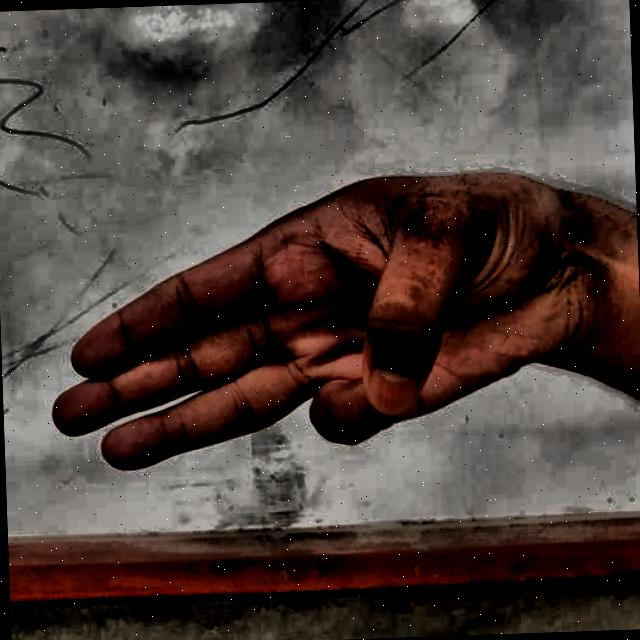Ma: (31, 152, 624, 486)
